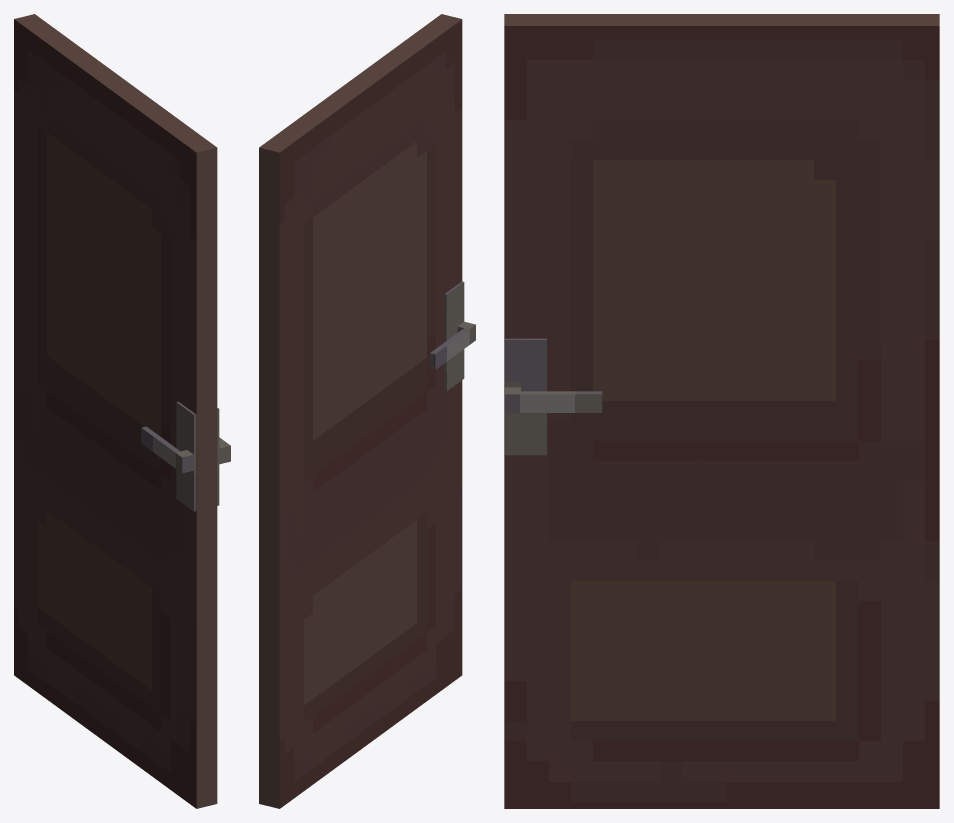
File: DoorFix.fbx
3 renders of one model, left to right at view 1: azimuth 30°, elevation 25°; view 2: azimuth 150°, elevation 25°; view 3: azimuth 270°, elevation 25°, orthographic. The views are drawn at different scales.
Parts seen in each view (by area): view 1: Cube.007; view 2: Cube.007; view 3: Cube.007.
Boxes of the visible parts, box(x1,y1,x2,y2) form: Cube.007: box(14, 14, 230, 808); Cube.007: box(259, 14, 475, 808); Cube.007: box(504, 14, 939, 808).
Bounding box in the file's own units: 59.6 × 767 × 387.
1 material, 1 textured.
